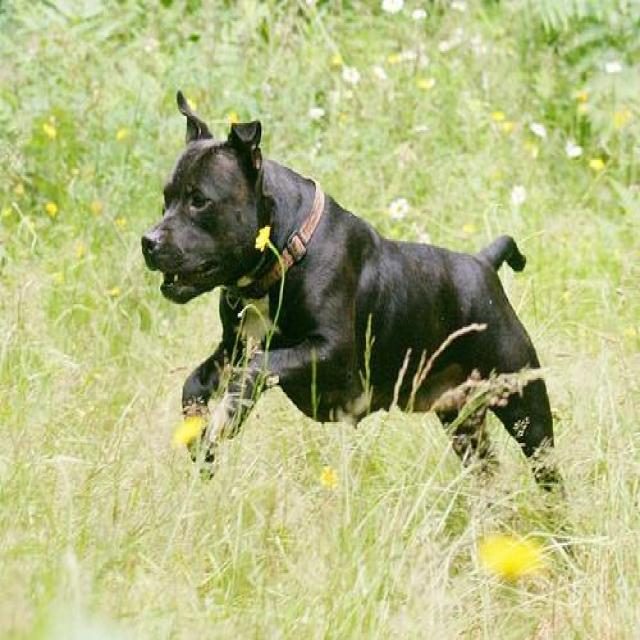staffordshire_bullterrier: (137, 88, 570, 503)
